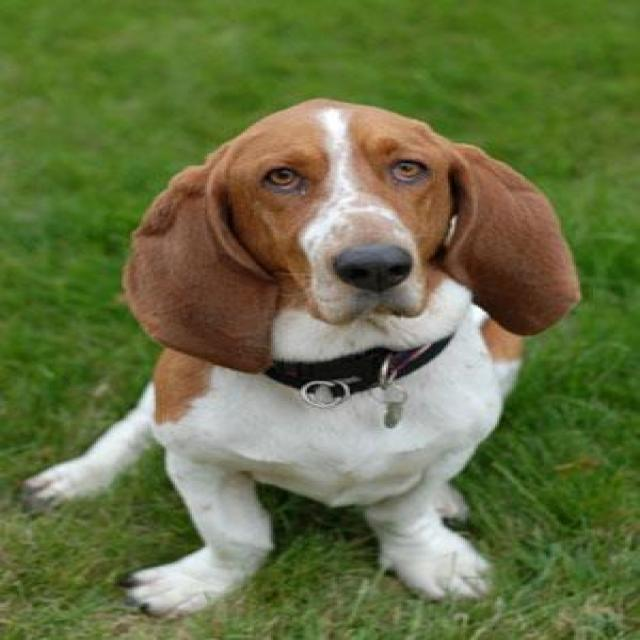basset: (15, 96, 587, 621)
